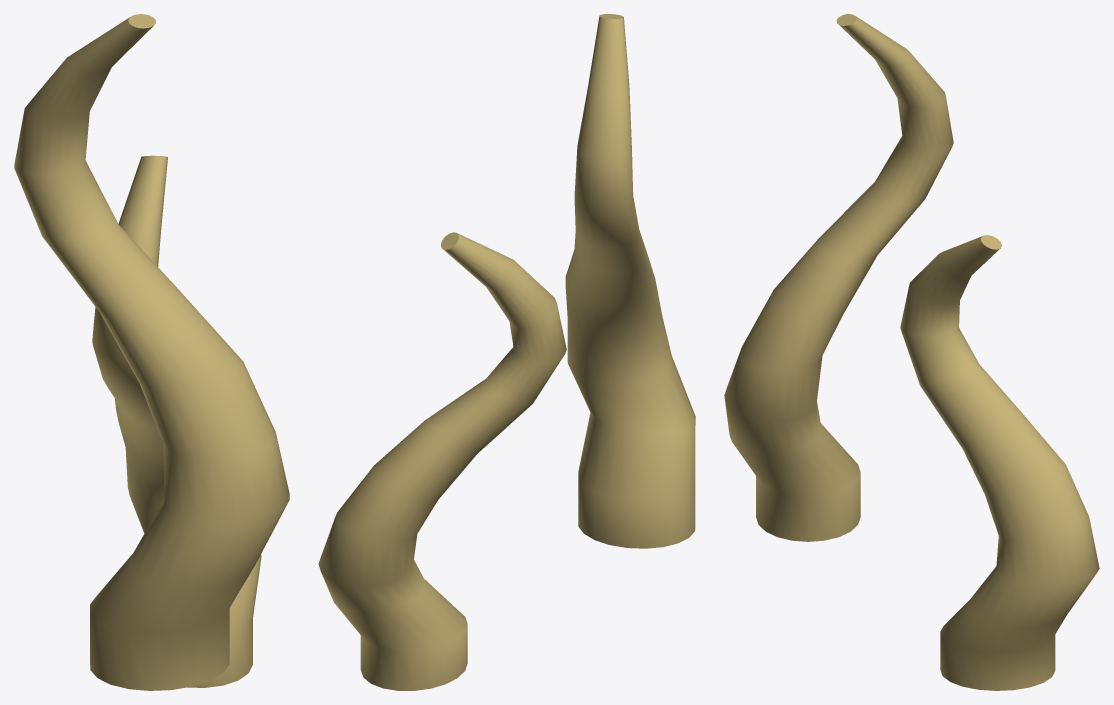
File: mesh_plantstage01_var01.fbx
3 renders of one model, left to right at view 1: azimuth 30°, elevation 25°; view 2: azimuth 150°, elevation 25°; view 3: azimuth 270°, elevation 25°, orthographic. The views are drawn at different scales.
Parts seen in each view (by area): view 1: mesh_plantstage01_var01; view 2: mesh_plantstage01_var01; view 3: mesh_plantstage01_var01.
Part boxes in pixels (x1,y1,x2,y2): mesh_plantstage01_var01: [14, 14, 289, 690]; mesh_plantstage01_var01: [318, 14, 695, 690]; mesh_plantstage01_var01: [724, 14, 1099, 690].
Size of the model in its own units: 0.2241 by 0.5486 by 0.3126.
